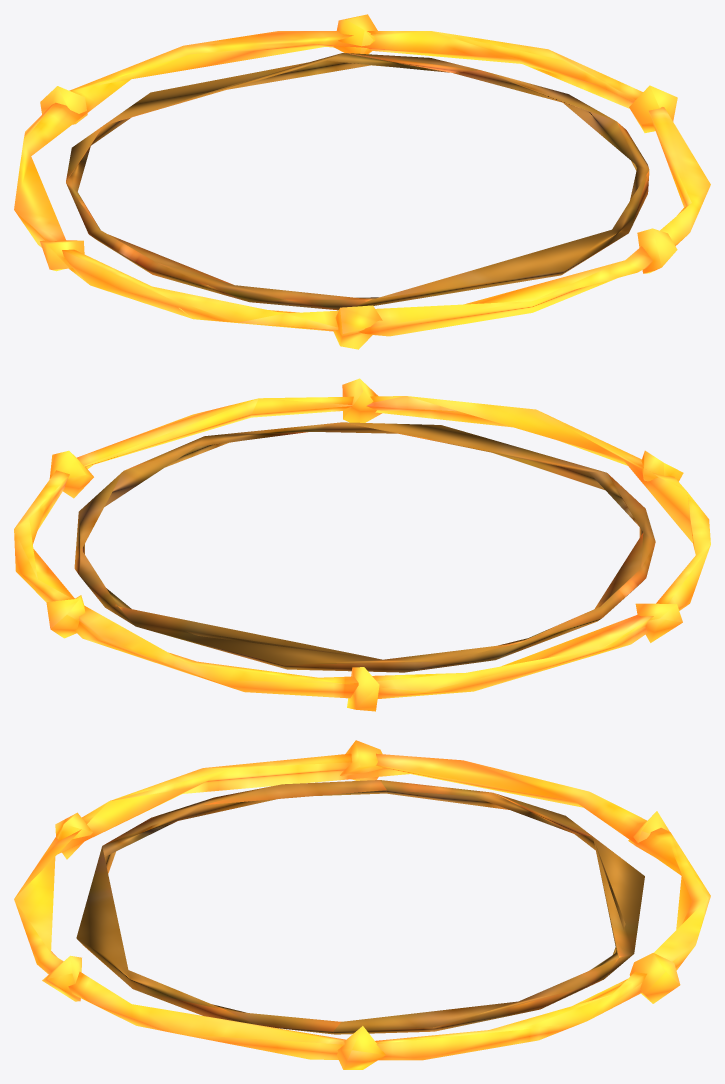
Rendered from u_stormring_x_g.glb.
3 renders of one model, top to bottom at view 1: azimuth 30°, elevation 25°; view 2: azimuth 150°, elevation 25°; view 3: azimuth 270°, elevation 25°, orthographic.
Visible parts, largest first — view 1: u_stormring_x; view 2: u_stormring_x; view 3: u_stormring_x.
Boxes of the visible parts, bbox=[...] form: u_stormring_x: bbox=[14, 14, 710, 349]; u_stormring_x: bbox=[14, 378, 710, 711]; u_stormring_x: bbox=[14, 740, 710, 1069].
Bounding box in the file's own units: 2.03 × 0.1473 × 1.95.
1 material, 1 textured.
